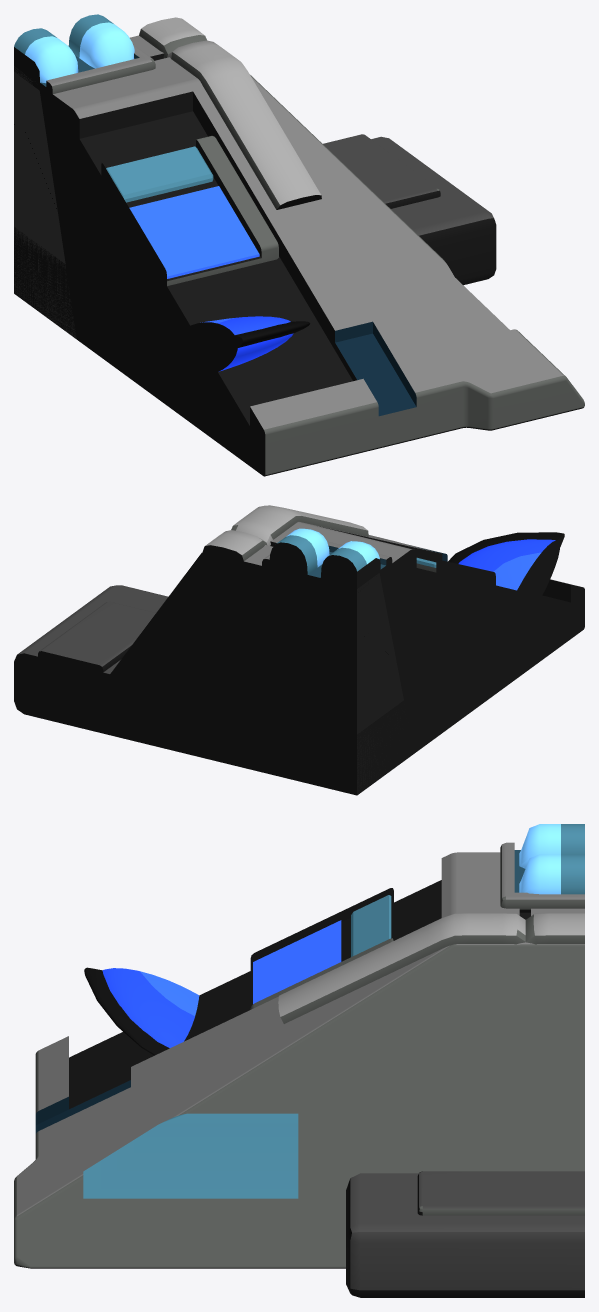
Rendered from ice_bunker_br.glb.
3 renders of one model, top to bottom at view 1: azimuth 30°, elevation 25°; view 2: azimuth 150°, elevation 25°; view 3: azimuth 270°, elevation 25°, orthographic. The views are drawn at different scales.
Parts seen in each view (by area): view 1: ice_bunker_br; view 2: ice_bunker_br; view 3: ice_bunker_br.
Part boxes in pixels (x1=…): ice_bunker_br: x1=14, y1=14, x2=584, y2=476; ice_bunker_br: x1=14, y1=505, x2=584, y2=795; ice_bunker_br: x1=14, y1=824, x2=584, y2=1297.
Bounding box in the file's own units: 20 × 13.12 × 23.9.
